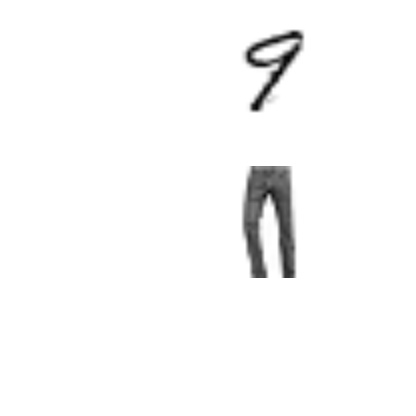9: (215, 7, 327, 119)
Trouser: (211, 166, 323, 278)
